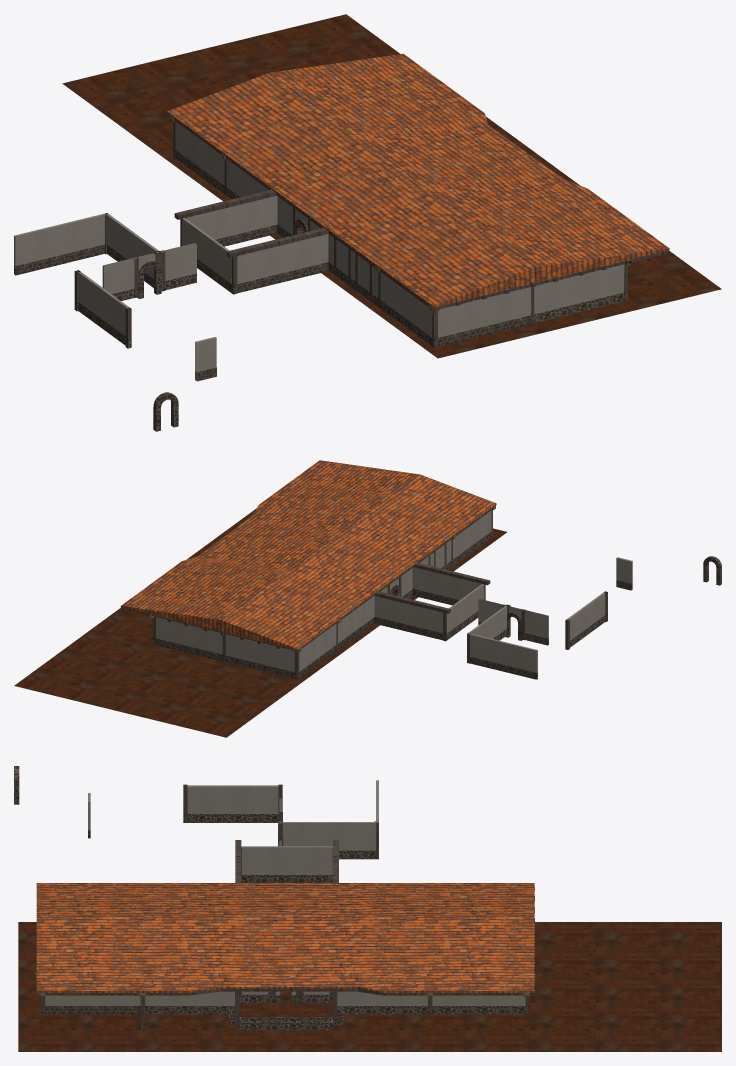
File: Museo.glb
3 renders of one model, top to bottom at view 1: azimuth 30°, elevation 25°; view 2: azimuth 150°, elevation 25°; view 3: azimuth 270°, elevation 25°, orthographic. The views are drawn at different scales.
Visible parts, largest first — view 1: Cube, museo, museo.024, museo.015, museo.016, museo.014, museo.020; view 2: Cube, museo, museo.024, museo.015, museo.016, museo.014, museo.020; view 3: Cube, museo, museo.014, museo.024, museo.015.
Boxes of the visible parts, bbox=[...] form: Cube: bbox=[62, 14, 721, 358]; museo: bbox=[168, 114, 668, 347]; museo.024: bbox=[180, 196, 328, 294]; museo.015: bbox=[14, 213, 161, 291]; museo.016: bbox=[102, 243, 196, 300]; museo.014: bbox=[74, 270, 131, 348]; museo.020: bbox=[195, 337, 216, 381]; Cube: bbox=[14, 460, 506, 737]; museo: bbox=[122, 505, 495, 679]; museo.024: bbox=[374, 567, 485, 641]; museo.015: bbox=[467, 604, 537, 679]; museo.016: bbox=[478, 599, 548, 645]; museo.014: bbox=[565, 591, 607, 649]; museo.020: bbox=[616, 557, 632, 590]; Cube: bbox=[18, 883, 721, 1051]; museo: bbox=[34, 840, 535, 1031]; museo.014: bbox=[183, 784, 282, 822]; museo.024: bbox=[241, 846, 332, 882]; museo.015: bbox=[278, 780, 378, 859].
Size of the model in its own units: 93.65 by 9.6 by 108.
9 materials, 9 textured.
